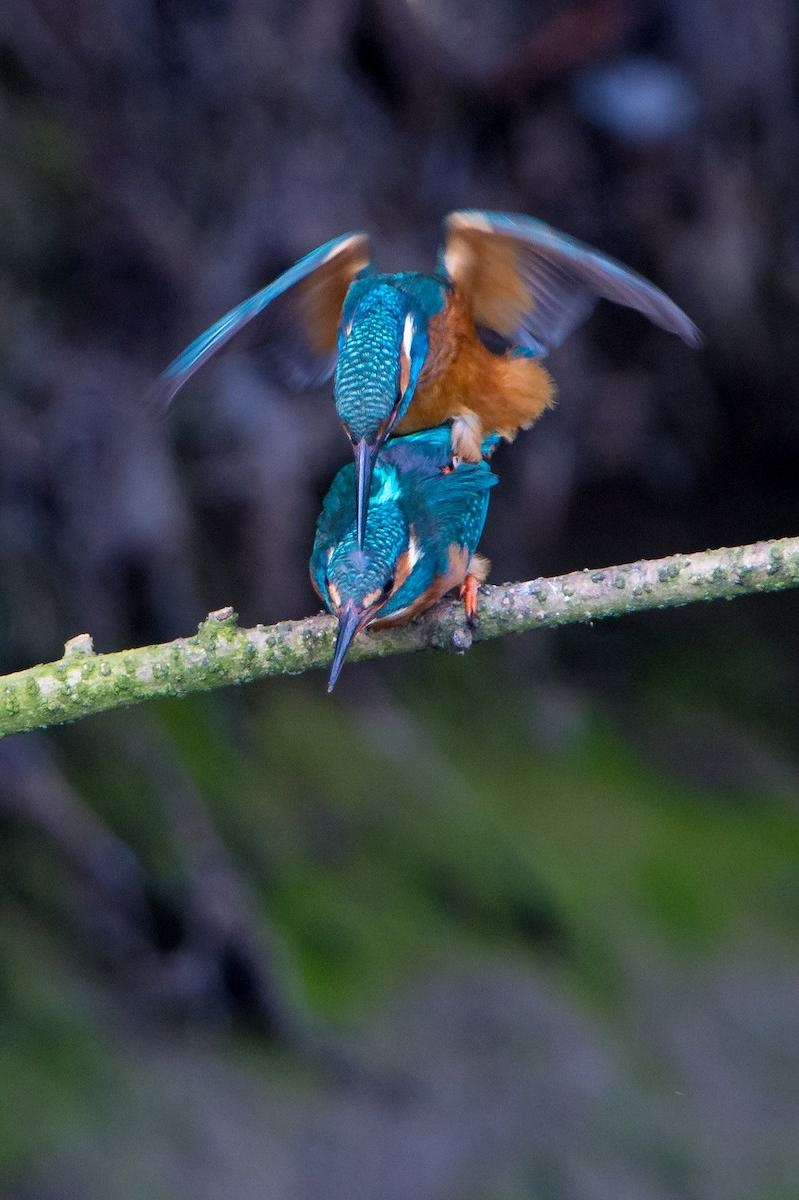kingfisher: (190, 224, 694, 508), (302, 449, 521, 708)
